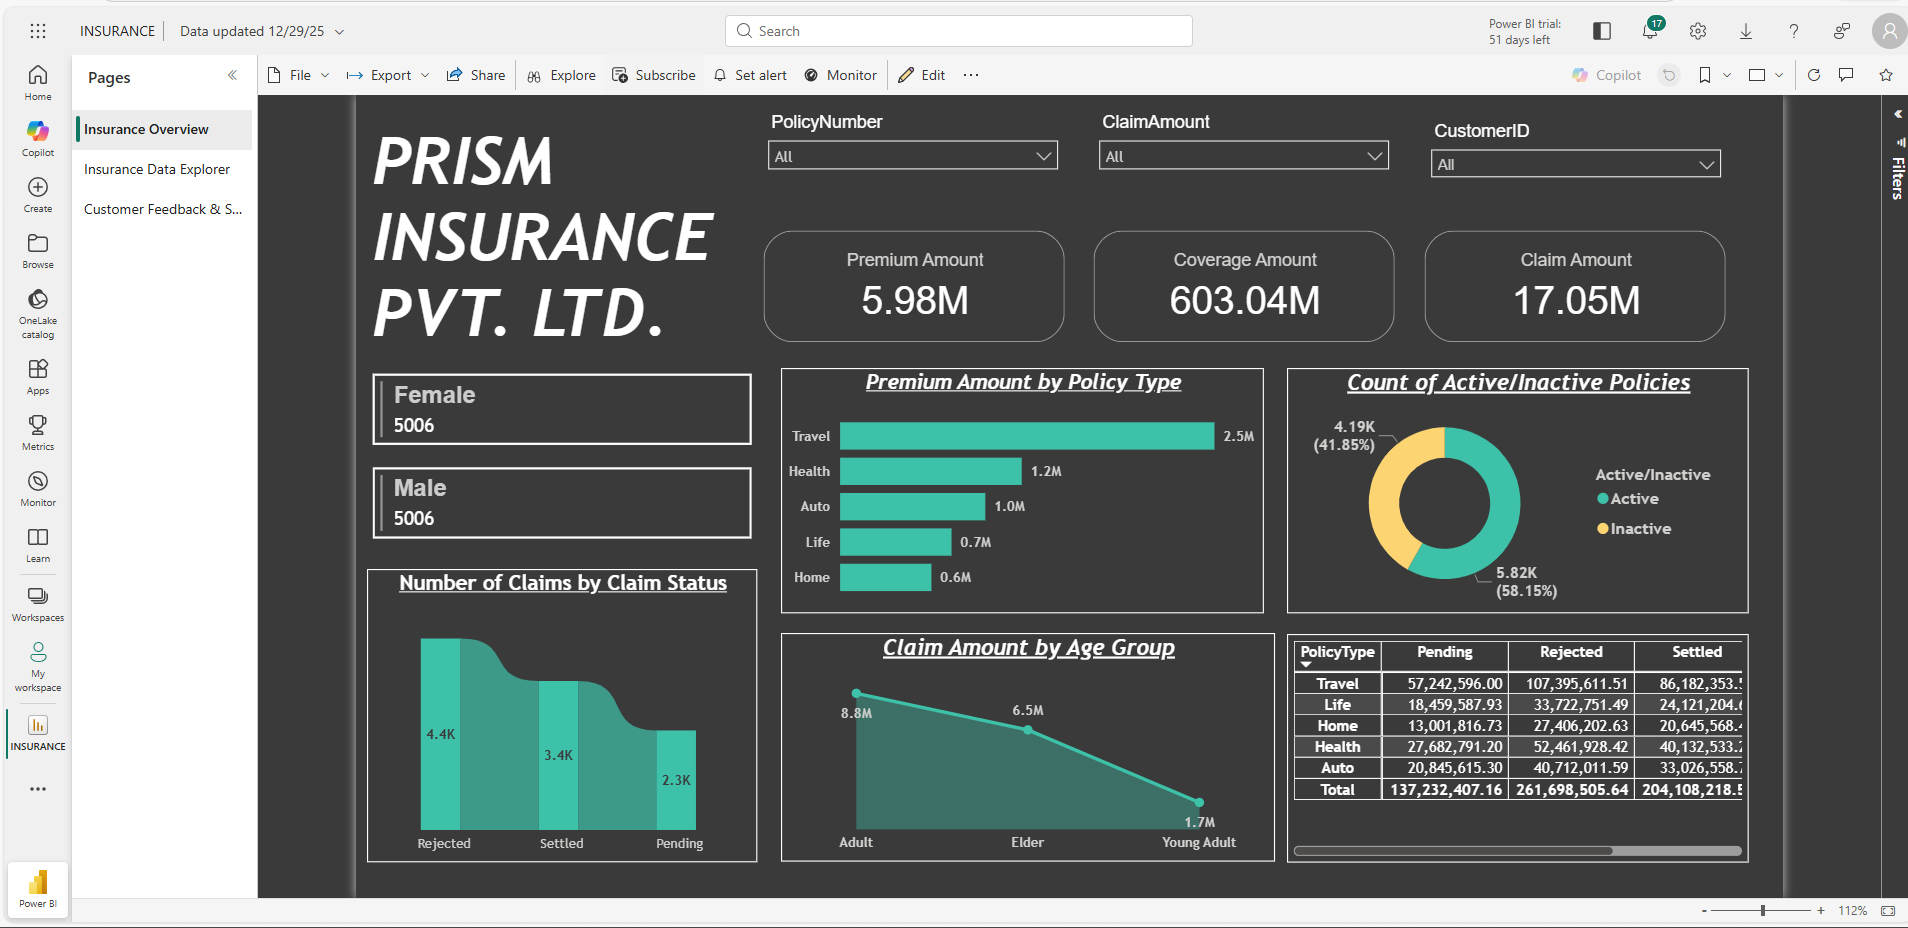

The page's visual inventory and layout, read from the dashboard file:
{"tool":"powerbi","page":{"name":"Insurance Overview ","canvas":[1280,720],"ordinal":0},"visuals":[{"type":"slicer","fields":{"Values":["InsuranceData.PolicyNumber"]},"box":[359.5,10.9,279.9,83.2],"z":0},{"type":"slicer","fields":{"Values":["InsuranceData.CustomerID"]},"box":[953.1,19.3,281.1,74.8],"z":1000},{"type":"textbox","box":[10,20,321.7,316.7],"z":2000},{"type":"cardVisual","fields":{"Data":["Sum(InsuranceData.PremiumAmount)"]},"box":[360,116.7,280,110],"z":3000},{"type":"cardVisual","fields":{"Data":["Sum(InsuranceData.CoverageAmount)"]},"box":[656.7,116.7,280,110],"z":4000},{"type":"cardVisual","fields":{"Data":["Sum(InsuranceData.ClaimAmount)"]},"box":[953.3,116.7,280,110],"z":5000},{"type":"multiRowCard","fields":{"Values":["InsuranceData.Gender","CountNonNull(InsuranceData.Gender)"]},"box":[9.7,244.9,349.9,179.8],"z":6000},{"type":"ribbonChart","title":"Number of Claims by Claim Status","fields":{"Category":["InsuranceData.ClaimStatus"],"Y":["CountNonNull(InsuranceData.ClaimStatus)"]},"box":[9.7,424.7,349.9,263],"z":7000},{"type":"barChart","title":"Premium Amount by Policy Type","fields":{"Category":["InsuranceData.PolicyType"],"Y":["Sum(InsuranceData.PremiumAmount)"]},"box":[381.2,244.9,433.1,219.6],"z":8000},{"type":"lineChart","title":"Claim Amount by Age Group","fields":{"Category":["InsuranceData.Age Groups"],"Y":["Sum(InsuranceData.ClaimAmount)"]},"box":[381.2,482.6,442.8,205.1],"z":9000},{"type":"donutChart","title":"Count of Active/Inactive Policies","fields":{"Category":["InsuranceData.Active/Inactive"],"Y":["CountNonNull(InsuranceData.Active/Inactive)"]},"box":[834.9,244.9,413.8,219.6],"z":10000},{"type":"pivotTable","fields":{"Rows":["InsuranceData.PolicyType"],"Columns":["InsuranceData.ClaimStatus"],"Values":["Sum(InsuranceData.CoverageAmount)"]},"box":[835,483,414,205],"z":11000},{"type":"slicer","fields":{"Values":["InsuranceData.ClaimAmount"]},"box":[656.3,10.9,279.9,83.2],"z":13000}]}

Visuals, with their boxes on the page's 1280x720 design canvas (x1, y1, x2, y2). These are canvas units, not pixel positions in the 1908x928 screenshot, which may show the page scaled, cropped or inside an application window:
slicer - InsuranceData.PolicyNumber: <region>360, 11, 639, 94</region>
slicer - InsuranceData.CustomerID: <region>953, 19, 1234, 94</region>
textbox: <region>10, 20, 332, 337</region>
cardVisual - Sum(InsuranceData.PremiumAmount): <region>360, 117, 640, 227</region>
cardVisual - Sum(InsuranceData.CoverageAmount): <region>657, 117, 937, 227</region>
cardVisual - Sum(InsuranceData.ClaimAmount): <region>953, 117, 1233, 227</region>
multiRowCard - InsuranceData.Gender x CountNonNull(InsuranceData.Gender): <region>10, 245, 360, 425</region>
"Number of Claims by Claim Status" ribbonChart: <region>10, 425, 360, 688</region>
"Premium Amount by Policy Type" barChart: <region>381, 245, 814, 464</region>
"Claim Amount by Age Group" lineChart: <region>381, 483, 824, 688</region>
"Count of Active/Inactive Policies" donutChart: <region>835, 245, 1249, 464</region>
pivotTable - InsuranceData.PolicyType x InsuranceData.ClaimStatus: <region>835, 483, 1249, 688</region>
slicer - InsuranceData.ClaimAmount: <region>656, 11, 936, 94</region>
